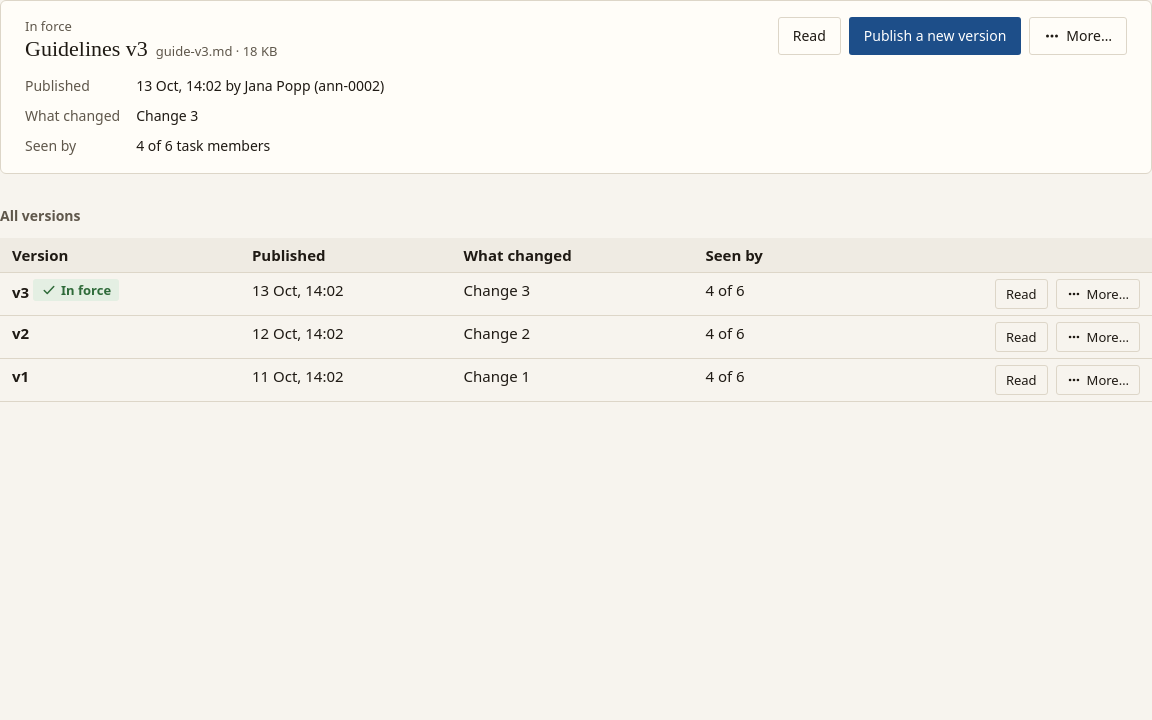
Test: Settings › Guidelines › withdraw dialog for an older version has no such sentence
Click the button "More…" in the row of "12 Oct, 14:02".
click(1098, 337)  # box left=1056, top=322, right=1140, bottom=352
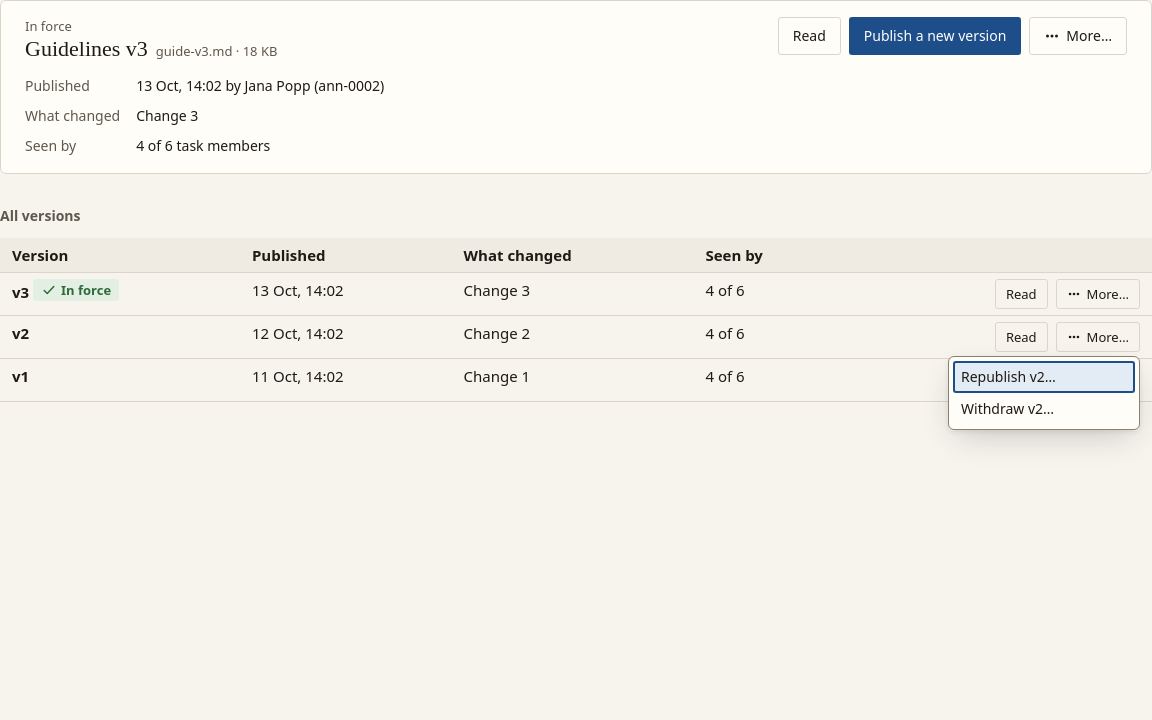
Click the menu item "Withdraw v2…".
click(1044, 409)  # box left=953, top=393, right=1135, bottom=425
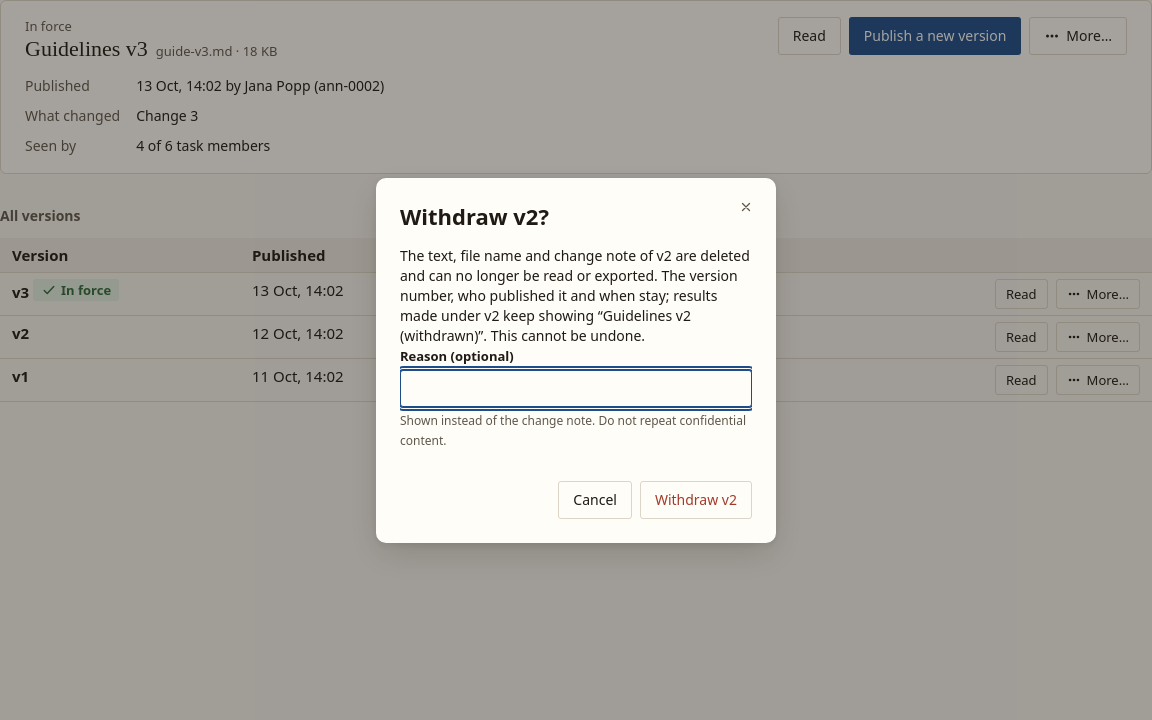
Expected: the text "The text, file name and change note of v2 are deleted" is shown, left=400, top=246, right=750, bottom=344
